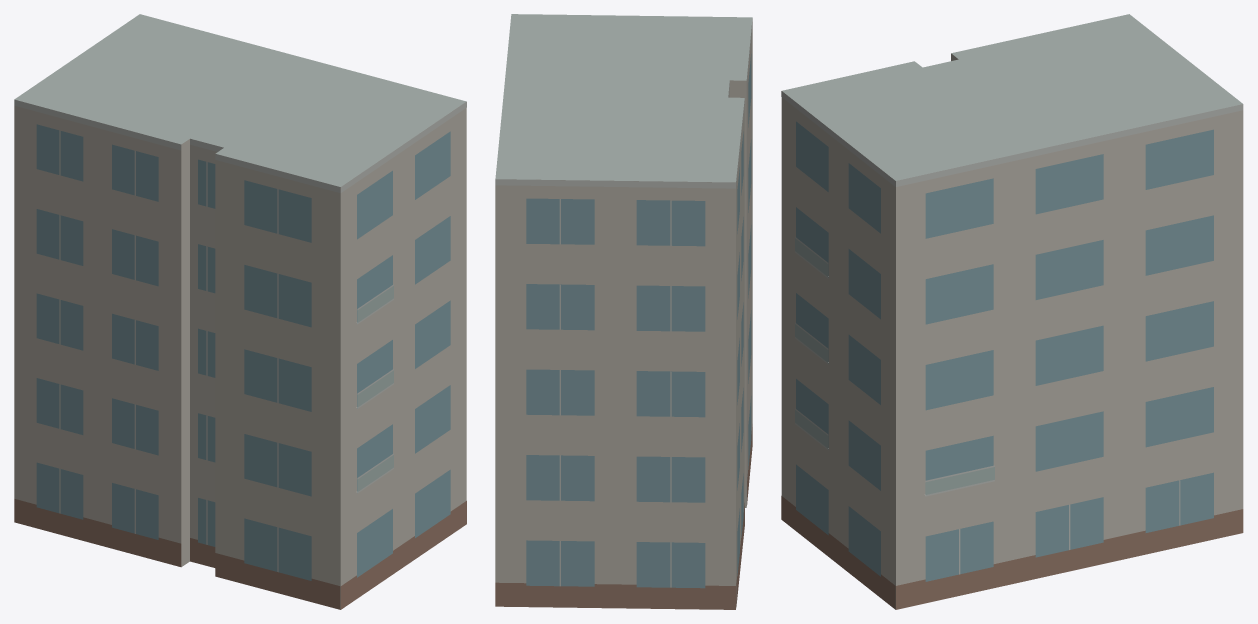
Rendered from survey-upis-32885135.glb.
The picture shows the model from 3 angles, left to right: view 1: azimuth 30°, elevation 25°; view 2: azimuth 150°, elevation 25°; view 3: azimuth 270°, elevation 25°; orthographic projection.
Parts seen in each view (by area): view 1: survey-upis-32885135.tmp; view 2: survey-upis-32885135.tmp; view 3: survey-upis-32885135.tmp.
Part boxes in pixels (x1=…): survey-upis-32885135.tmp: x1=14, y1=14, x2=466, y2=609; survey-upis-32885135.tmp: x1=495, y1=14, x2=752, y2=609; survey-upis-32885135.tmp: x1=781, y1=14, x2=1243, y2=609.
Bounding box in the file's own units: 14.12 × 16.9 × 16.5.
